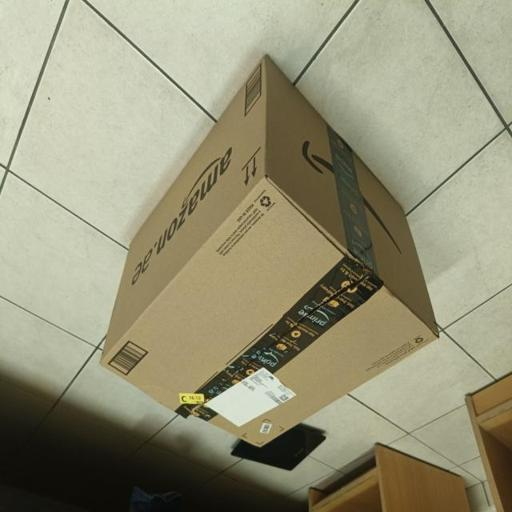Amazon: (99, 53, 439, 455)
